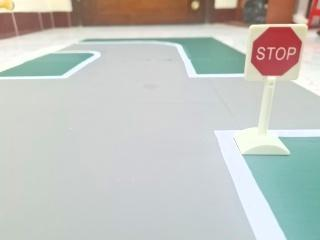stop: (245, 19, 303, 82)
